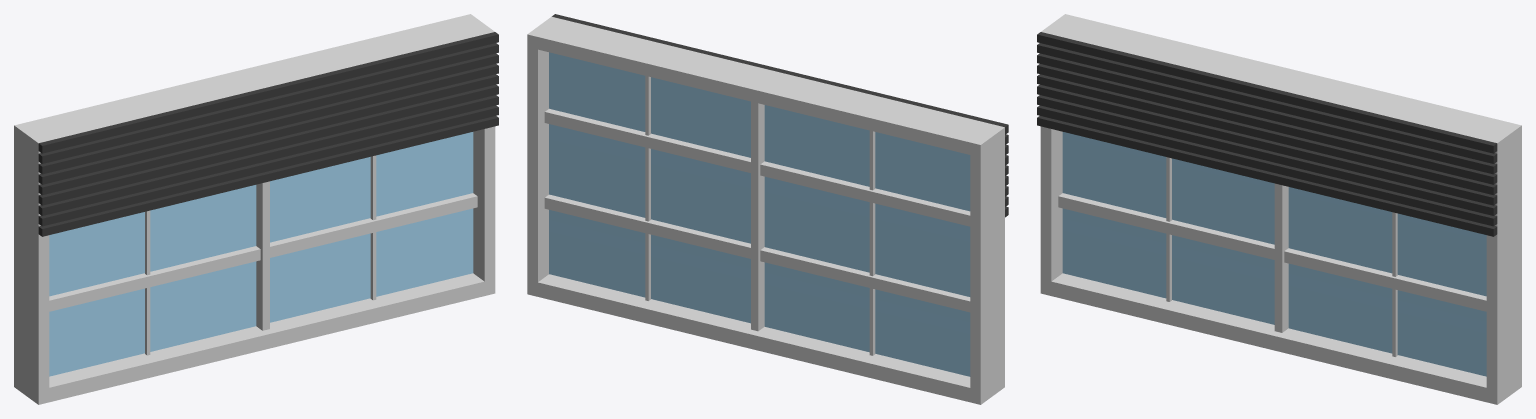
The model's file is window_015.fbx.
3 views of the same model, side by side, from view 1: azimuth 30°, elevation 25°; view 2: azimuth 150°, elevation 25°; view 3: azimuth 330°, elevation 25° (orthographic).
Parts seen in each view (by area): view 1: window_015; view 2: window_015; view 3: window_015.
Boxes of the visible parts, bbox=[...] form: window_015: bbox=[14, 14, 498, 404]; window_015: bbox=[527, 14, 1008, 404]; window_015: bbox=[1037, 14, 1521, 404].
Size of the model in its own units: 305 by 32.52 by 167.
